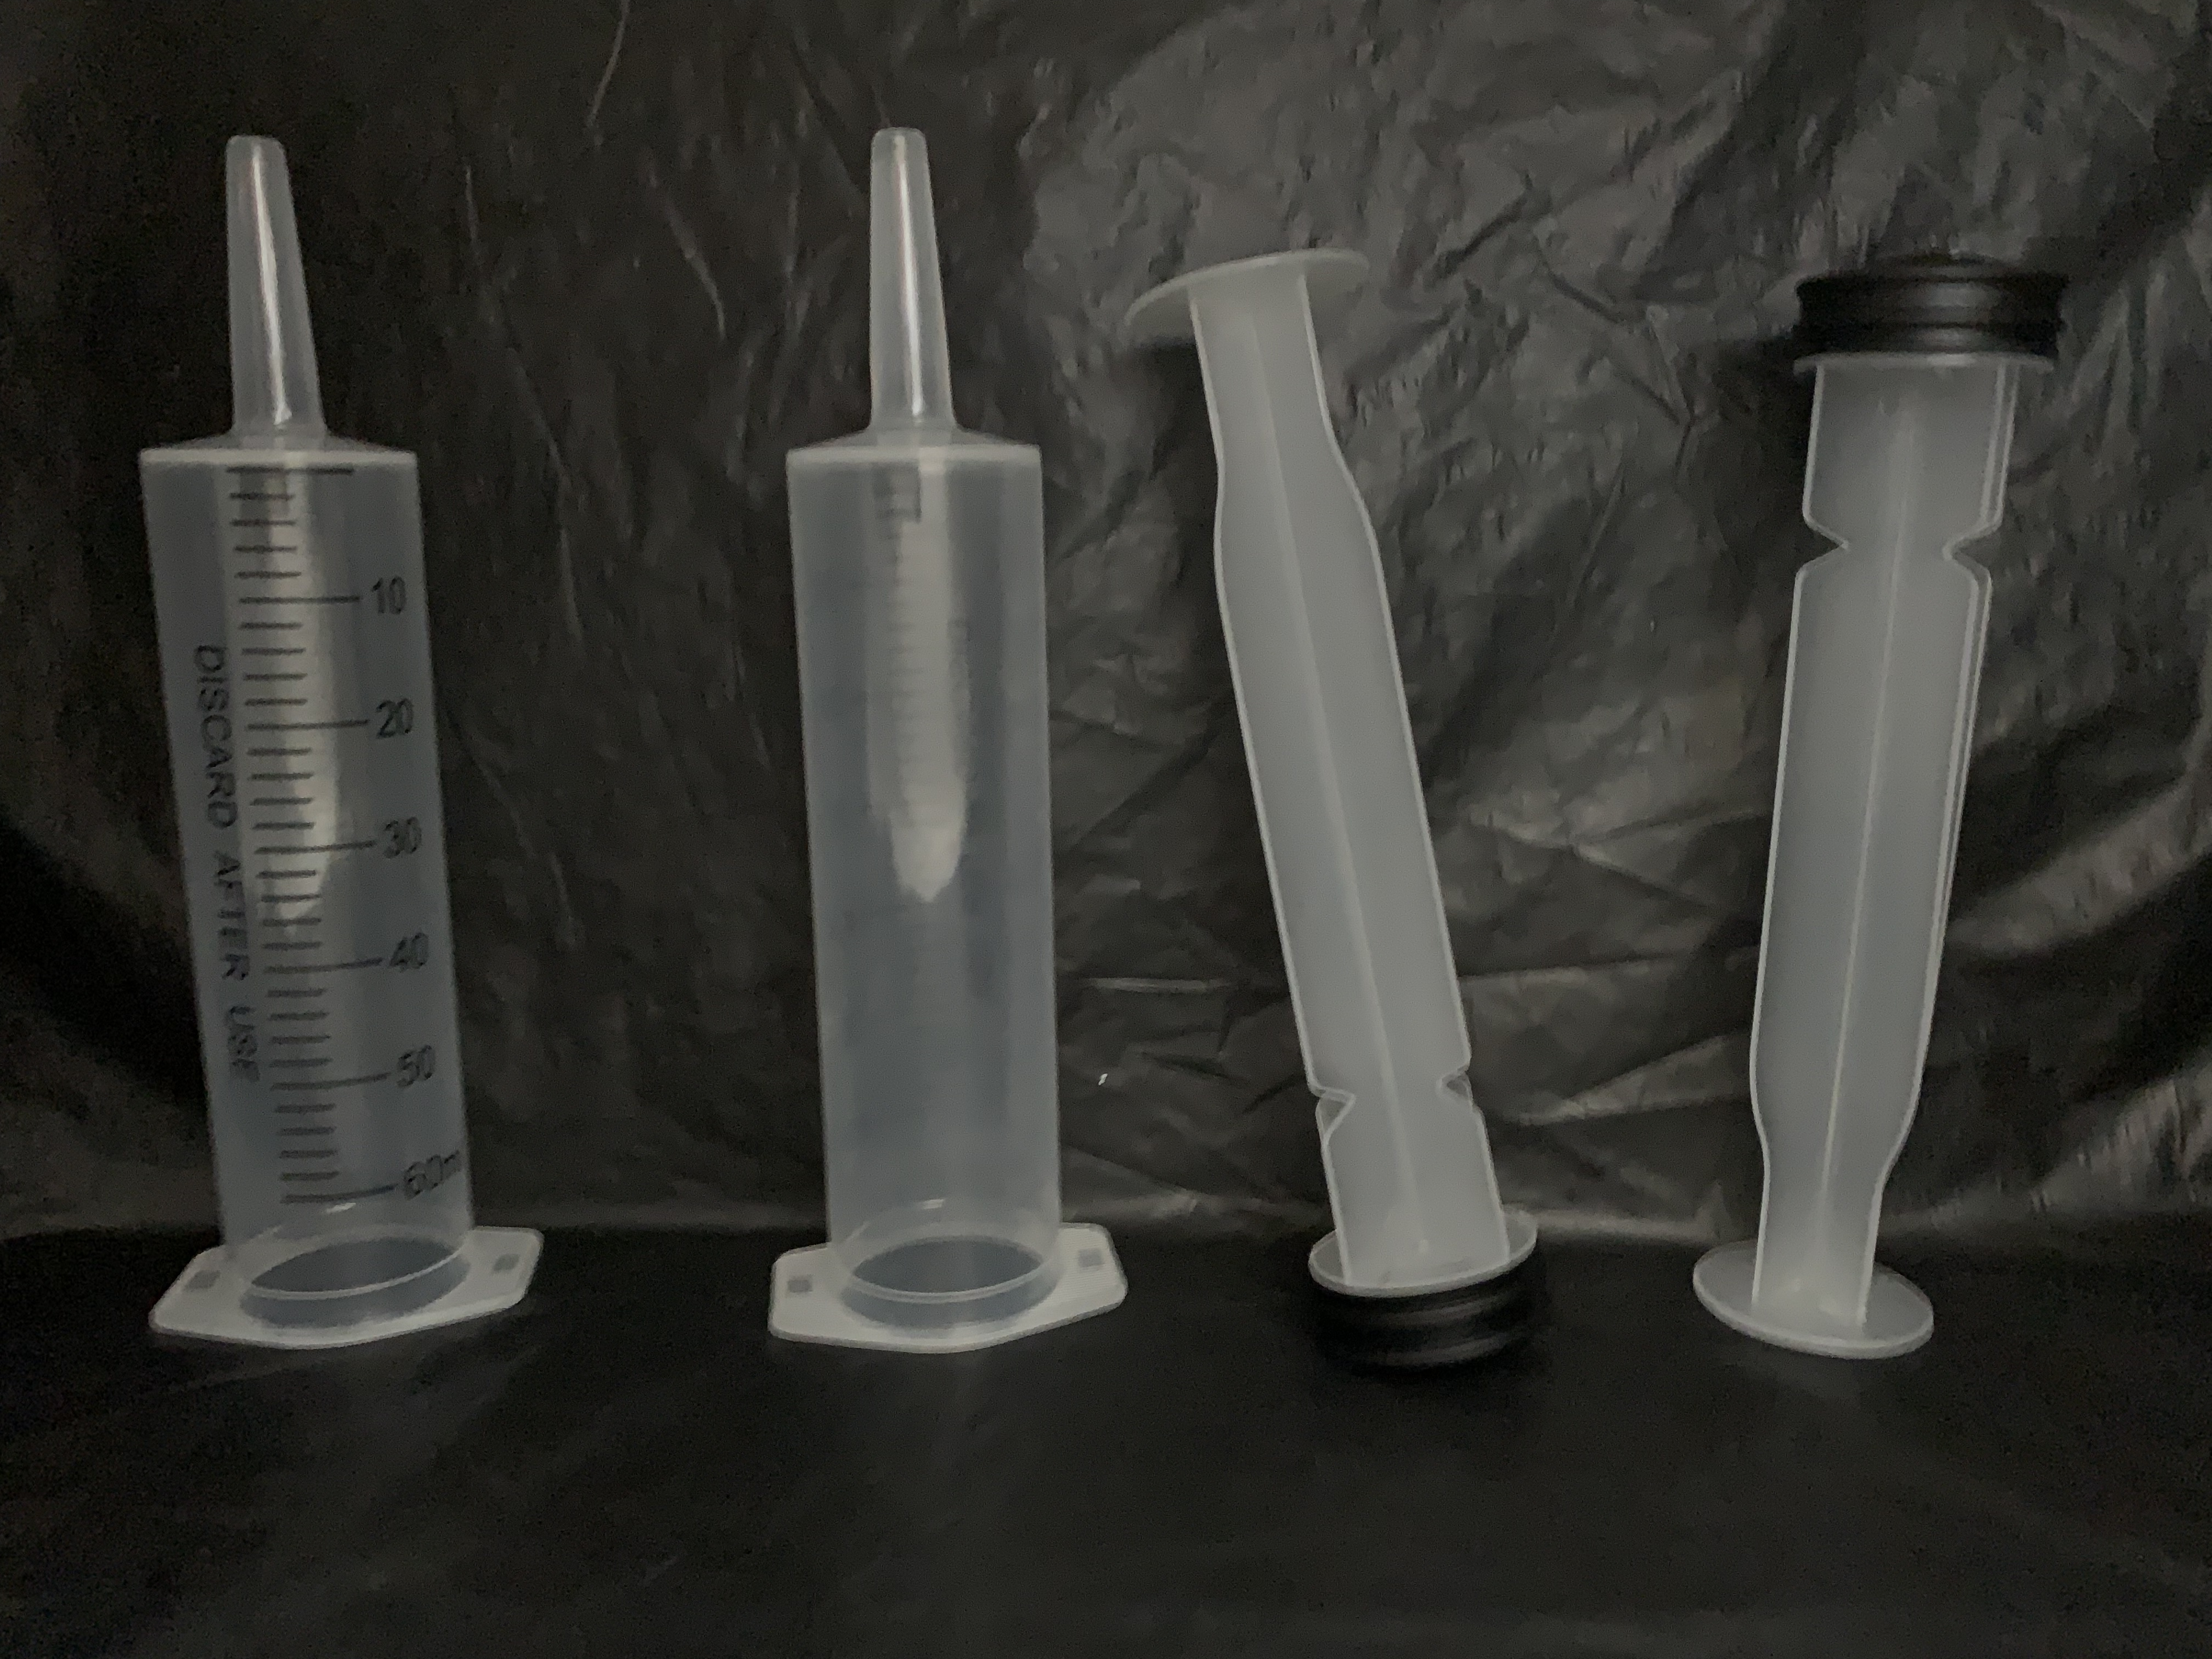plunger: (1116, 242, 1562, 1378), (1689, 235, 2074, 1361)
syringe: (129, 119, 556, 1352), (752, 115, 1134, 1358)
